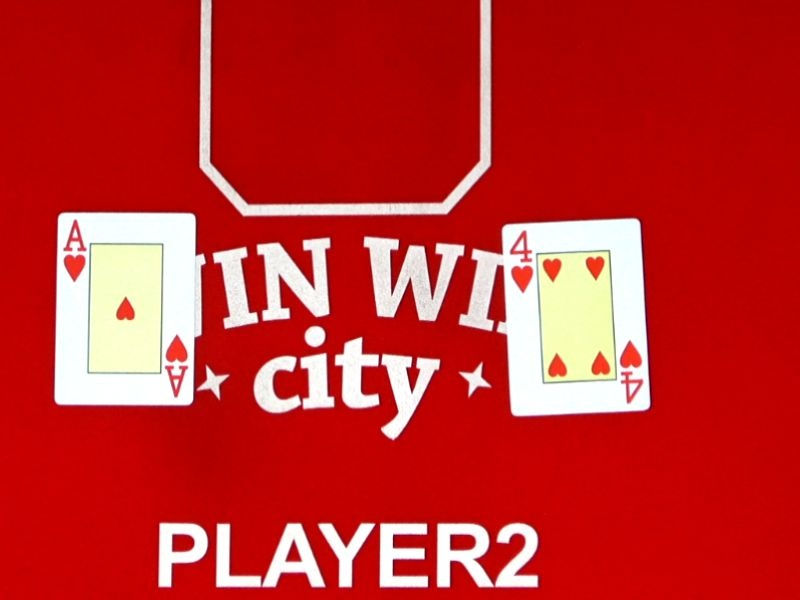4H: (591, 337, 671, 410), (486, 231, 556, 295)
AH: (36, 219, 115, 289), (139, 333, 214, 403)
